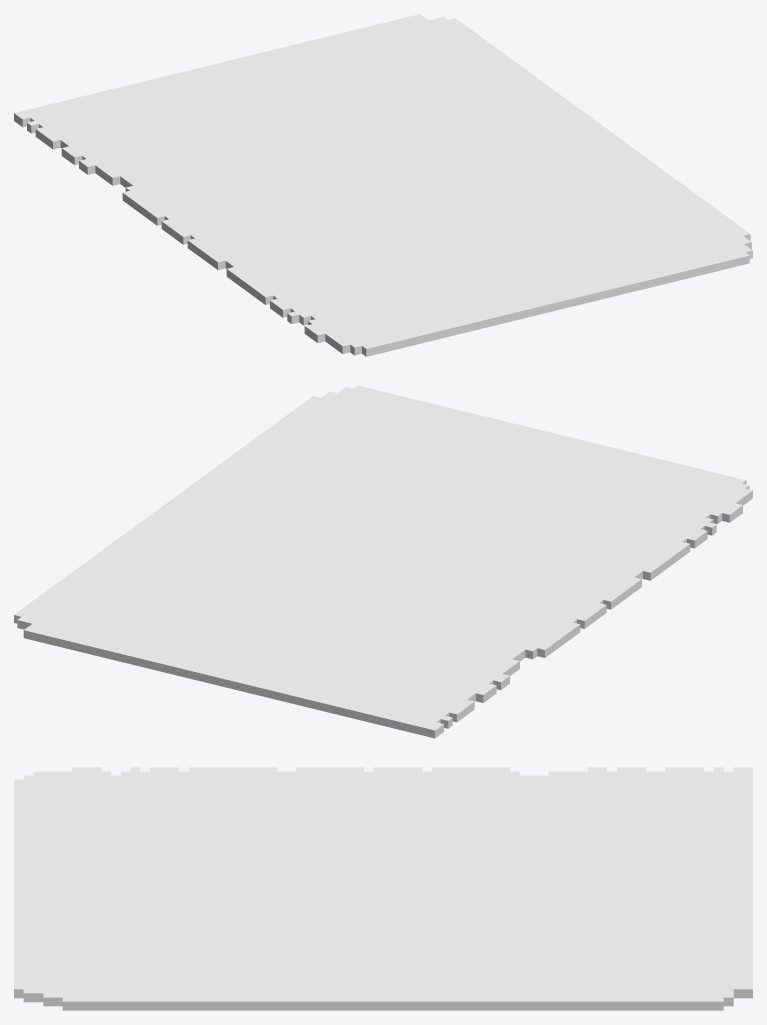
Rendered from Paper1.fbx.
3 renders of one model, top to bottom at view 1: azimuth 30°, elevation 25°; view 2: azimuth 150°, elevation 25°; view 3: azimuth 270°, elevation 25°, orthographic. The views are drawn at different scales.
Parts seen in each view (by area): view 1: Paper1; view 2: Paper1; view 3: Paper1.
Boxes of the visible parts, box(x1,y1,x2,y2) form: Paper1: box(14, 14, 752, 356); Paper1: box(14, 385, 752, 738); Paper1: box(14, 767, 752, 1010).
Bounding box in the file's own units: 5.7 × 0.1 × 7.6.
